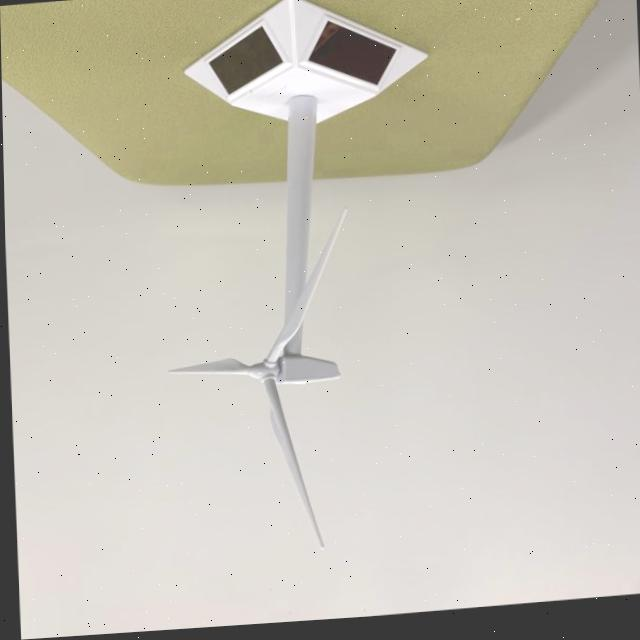solid-blade: (263, 213, 344, 367), (260, 381, 320, 553), (166, 361, 247, 378)
